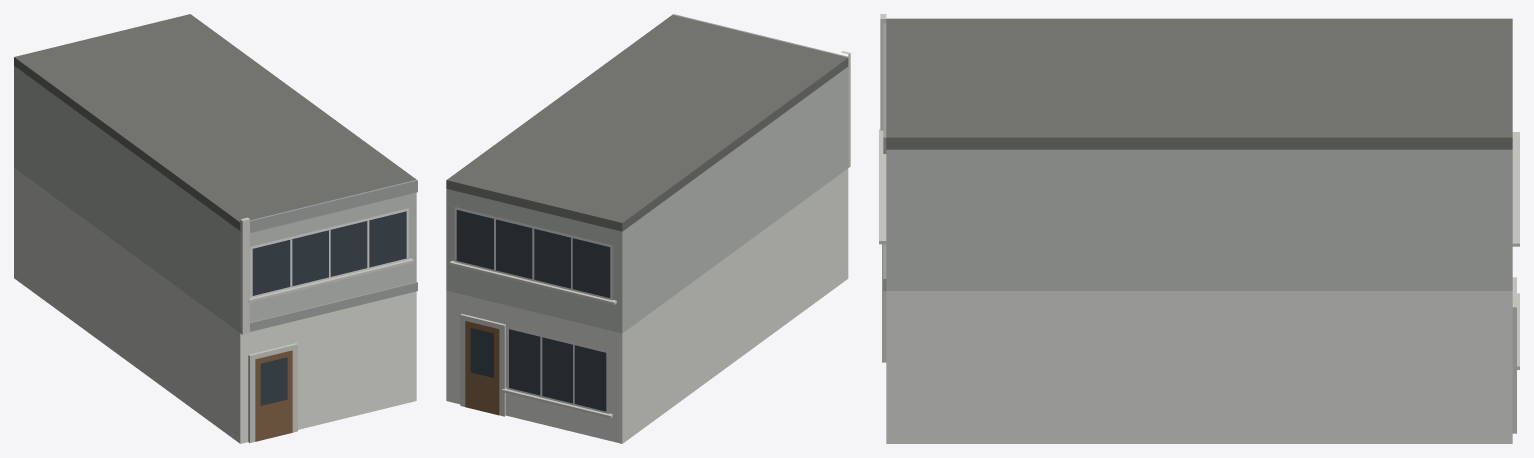
The model's file is zo-ko-patio__grey__2__flat__long__solid.glb.
3 views of the same model, side by side, from view 1: azimuth 30°, elevation 25°; view 2: azimuth 150°, elevation 25°; view 3: azimuth 270°, elevation 25° (orthographic). The views are drawn at different scales.
Visible parts, largest first — view 1: zo-ko-patio__grey__2__flat__long__solid; view 2: zo-ko-patio__grey__2__flat__long__solid; view 3: zo-ko-patio__grey__2__flat__long__solid.
Boxes of the visible parts, x1,y1,x2,y2 form: zo-ko-patio__grey__2__flat__long__solid: [14, 14, 417, 443]; zo-ko-patio__grey__2__flat__long__solid: [446, 14, 850, 443]; zo-ko-patio__grey__2__flat__long__solid: [879, 14, 1519, 443].
Size of the model in its own units: 4.69 by 5.72 by 10.68.
